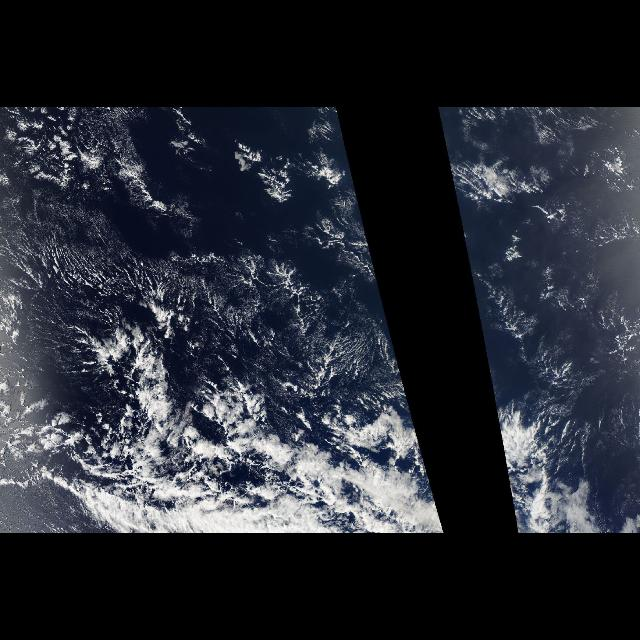Gravel: (7, 109, 167, 339)
Sugar: (5, 200, 381, 398)
